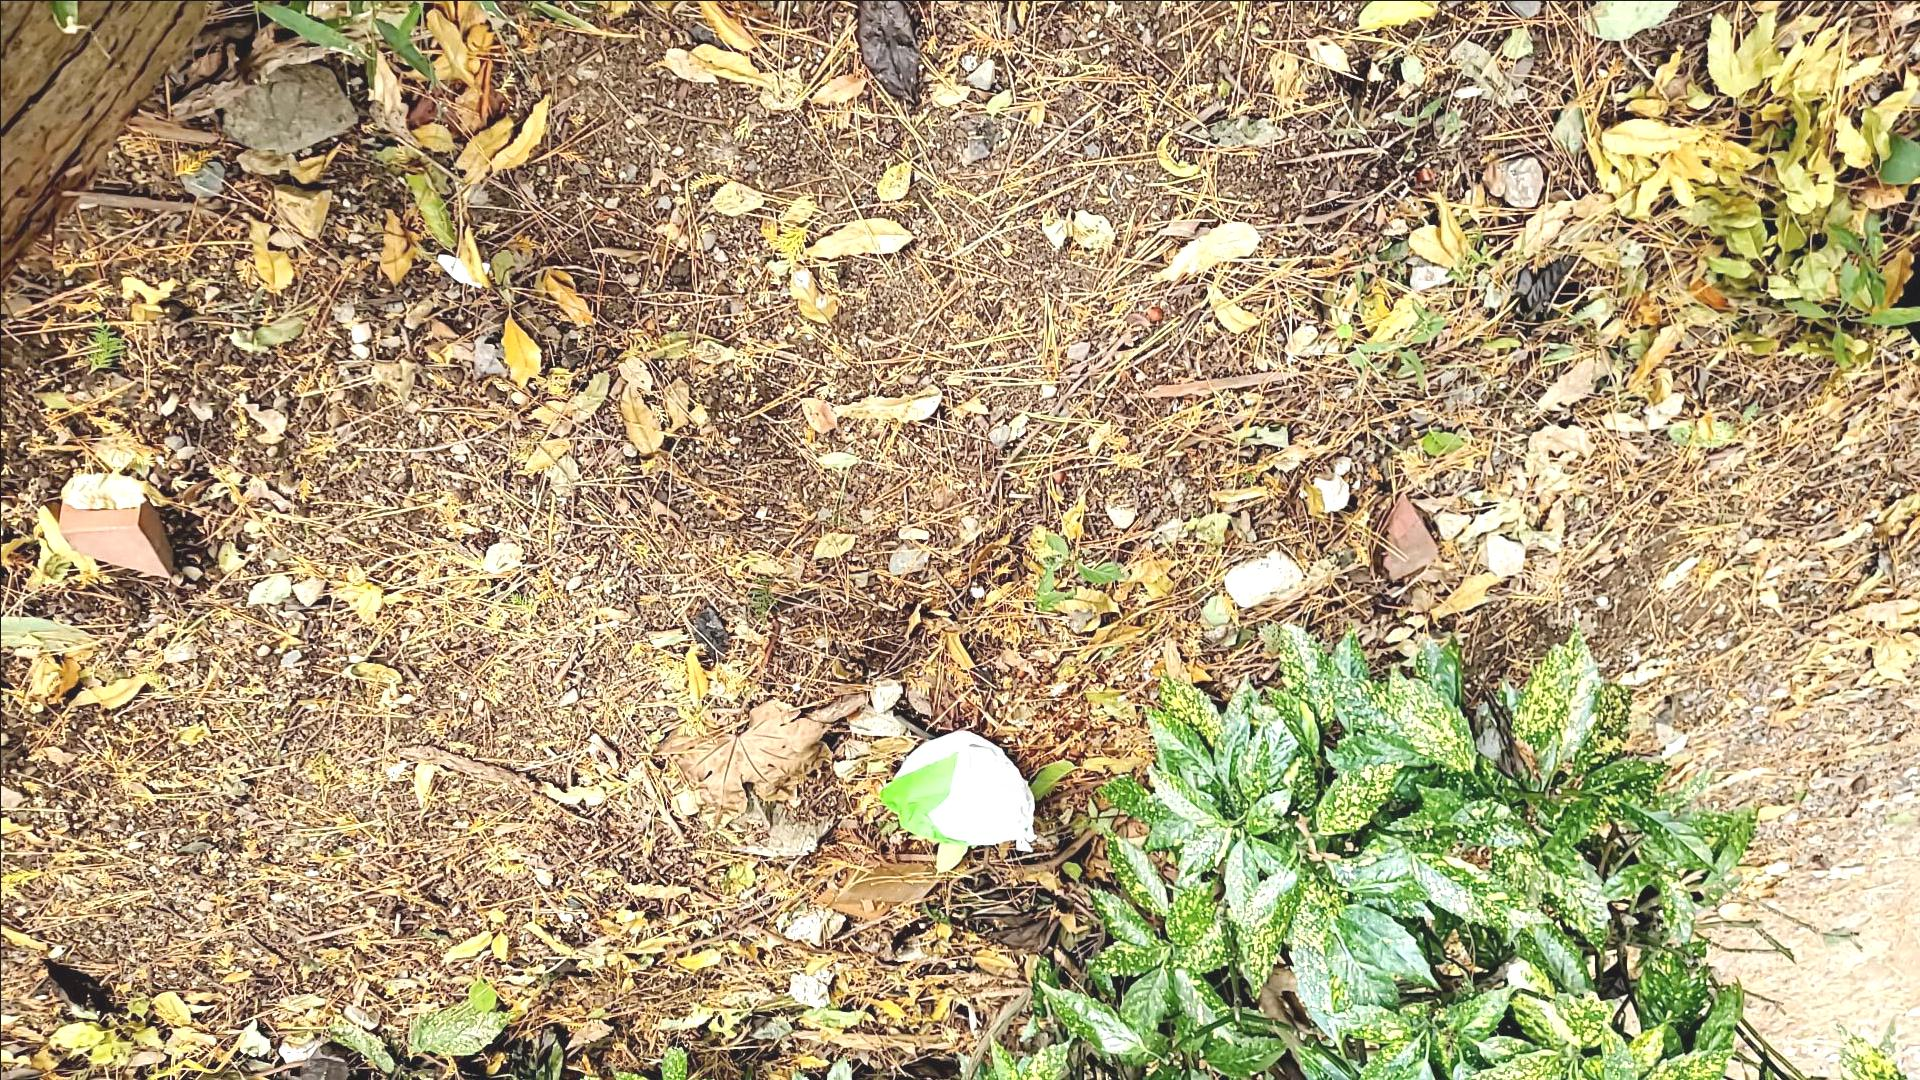white_bag: (874, 723, 1060, 869)
